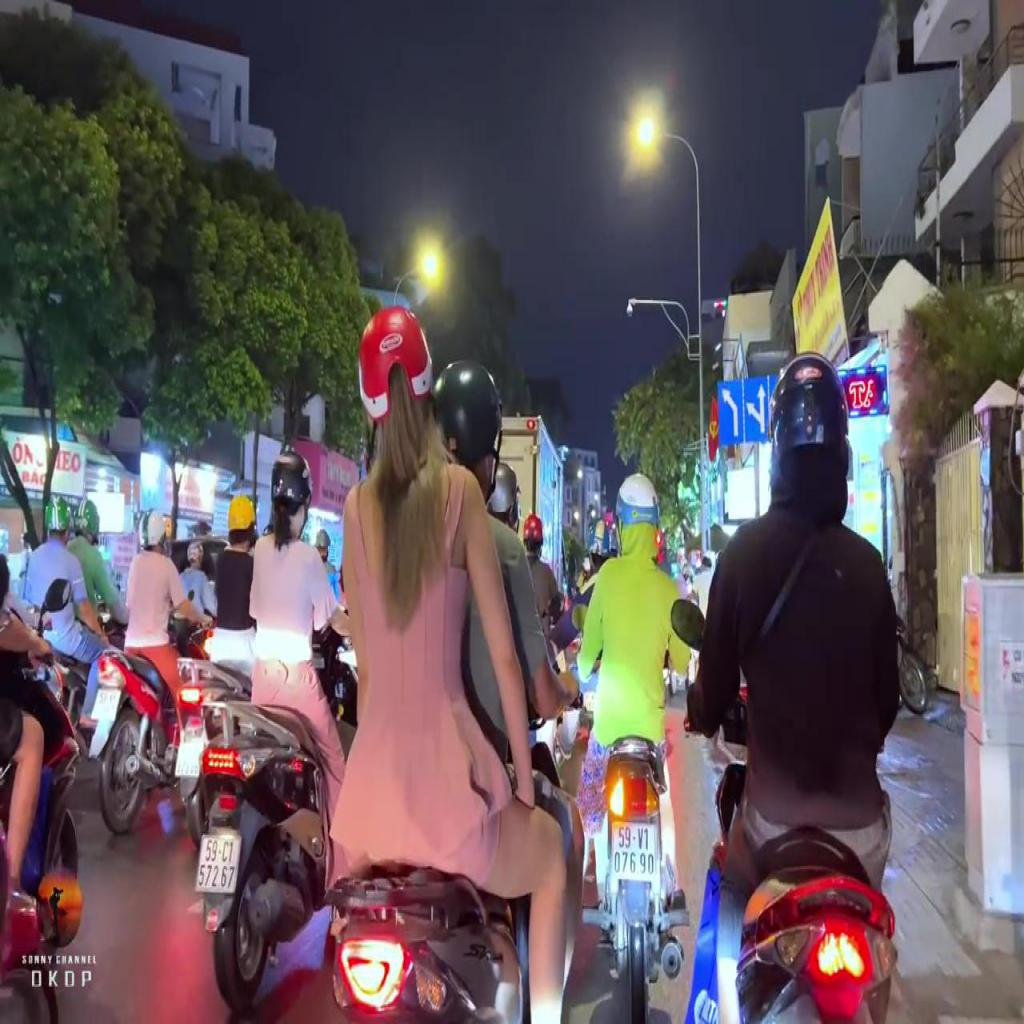huong_di_tren_moi_lan_duong_theo_vach_ke_duong: (718, 376, 776, 446)
